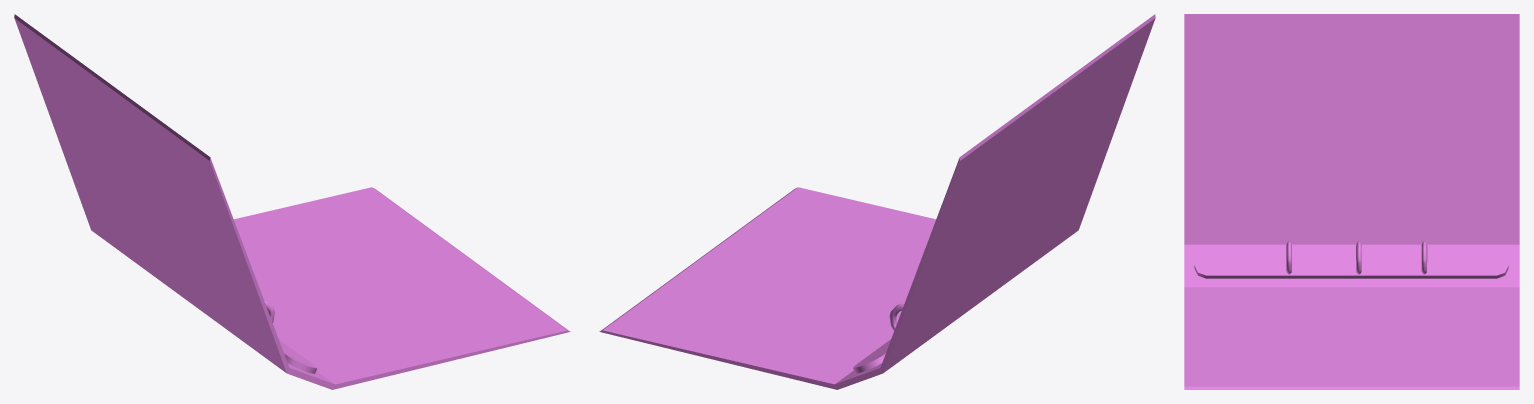
File: Carpeta 1.fbx
The picture shows the model from 3 angles, left to right: view 1: azimuth 30°, elevation 25°; view 2: azimuth 150°, elevation 25°; view 3: azimuth 270°, elevation 25°; orthographic projection. The views are drawn at different scales.
Parts seen in each view (by area): view 1: Carpeta_1; view 2: Carpeta_1; view 3: Carpeta_1.
Boxes of the visible parts, x1,y1,x2,y2 form: Carpeta_1: (14, 14, 570, 389); Carpeta_1: (599, 14, 1155, 389); Carpeta_1: (1184, 14, 1519, 389).
Bounding box in the file's own units: 0.41 × 0.2853 × 0.3852.
